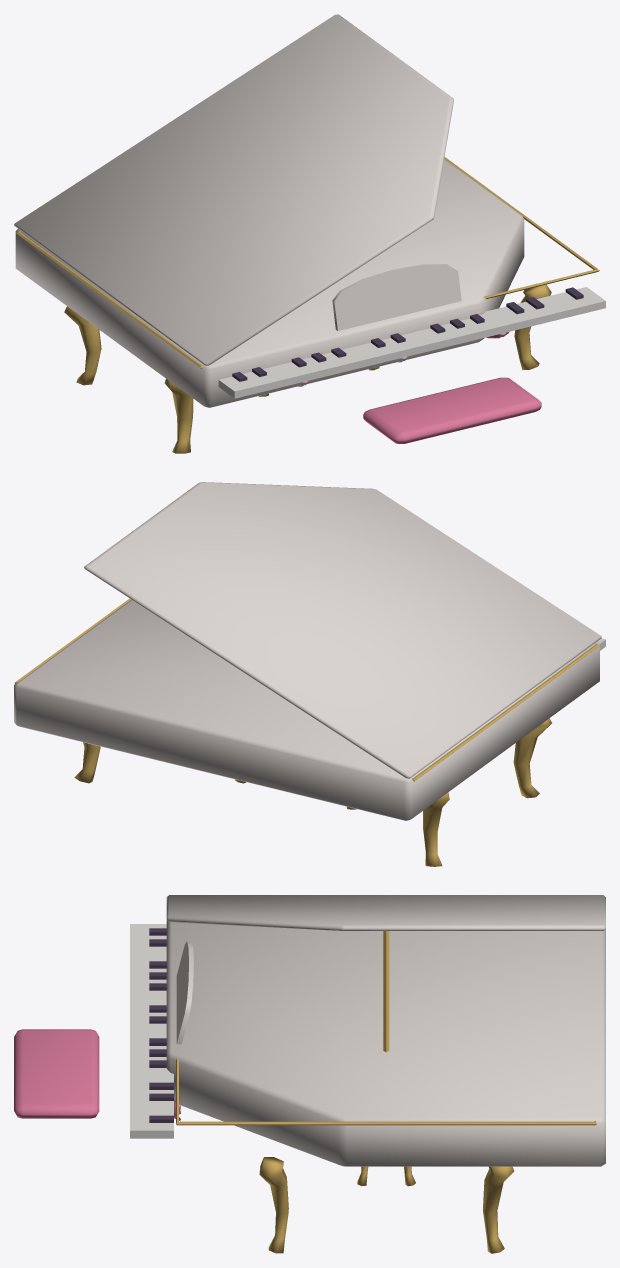
File: pianoforte.glb
3 views of the same model, one above another, from view 1: azimuth 30°, elevation 25°; view 2: azimuth 150°, elevation 25°; view 3: azimuth 270°, elevation 25° (orthographic). The views are drawn at different scales.
Visible parts, largest first — view 1: pianoforte; view 2: pianoforte; view 3: pianoforte.
Boxes of the visible parts, x1,y1,x2,y2 form: pianoforte: (14,14,605,453); pianoforte: (14,482,605,866); pianoforte: (14,895,605,1253).
Size of what is drawn, in the model's own units: 1.6 by 1 by 1.8.
